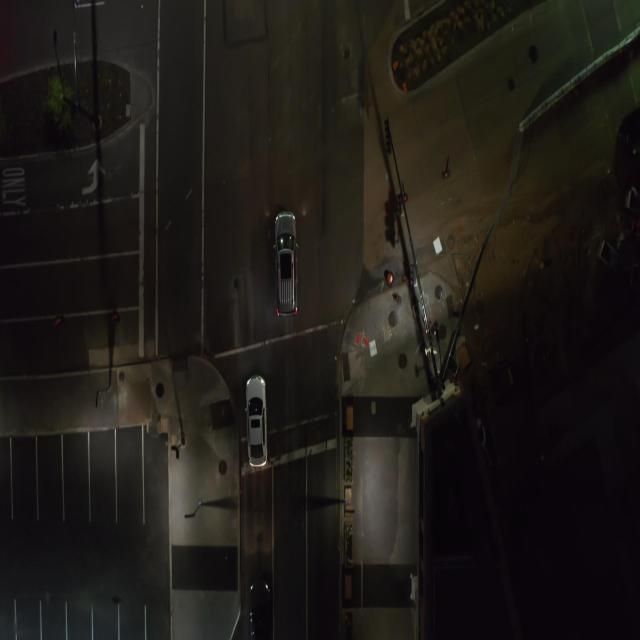Car: (273, 212, 298, 316), (244, 374, 268, 466), (249, 582, 272, 640)
